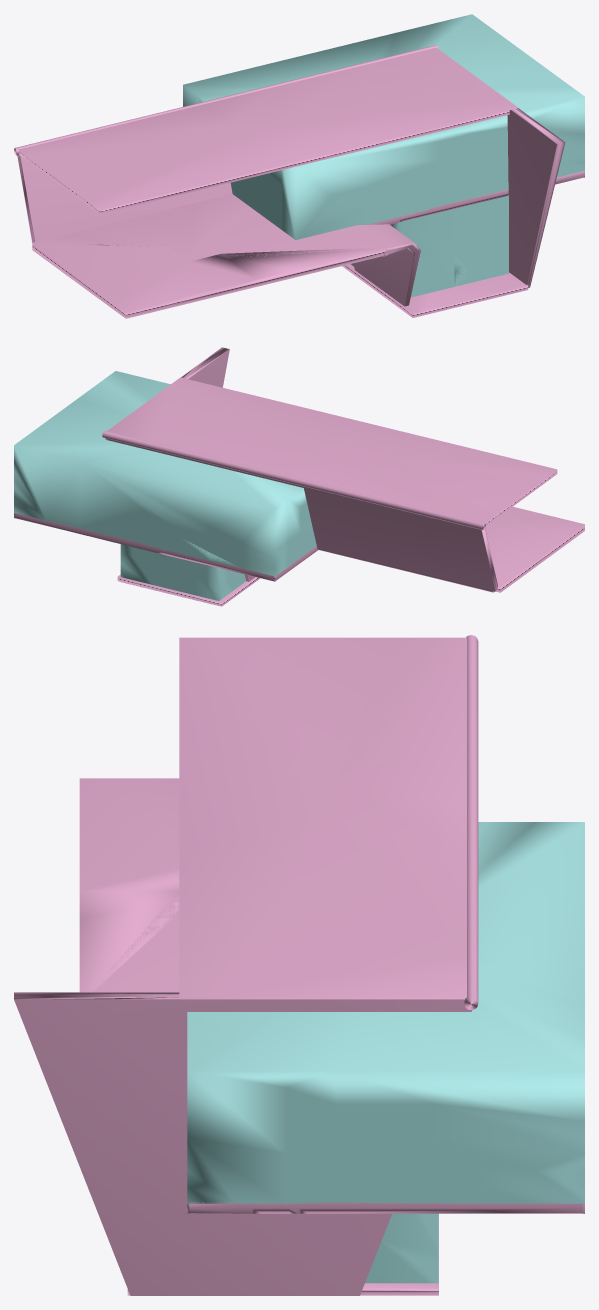
The model's file is Modern House_02.fbx.
The picture shows the model from 3 angles, top to bottom: view 1: azimuth 30°, elevation 25°; view 2: azimuth 150°, elevation 25°; view 3: azimuth 270°, elevation 25°; orthographic projection. The views are drawn at different scales.
Parts seen in each view (by area): view 1: Housepart2; view 2: Housepart2; view 3: Housepart2.
Boxes of the visible parts, x1,y1,x2,y2 form: Housepart2: (14, 14, 584, 318); Housepart2: (14, 347, 584, 606); Housepart2: (14, 635, 584, 1295).
Size of the model in its own units: 24 by 8.06 by 13.74.
